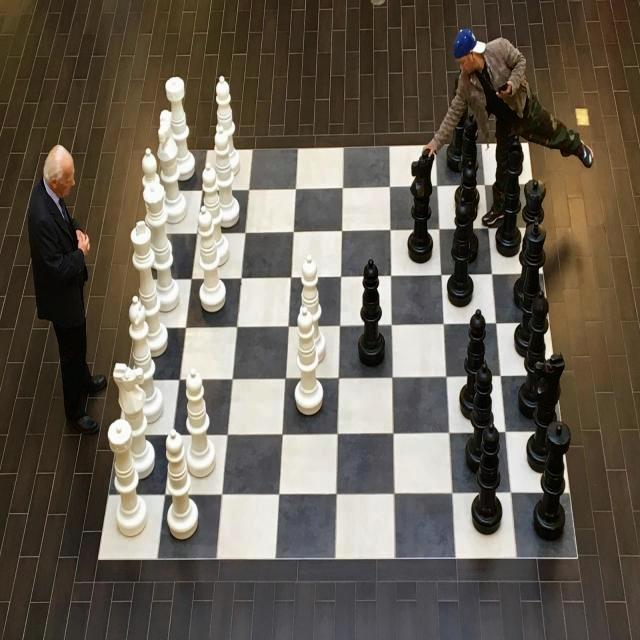chess-table-corners: (79, 530, 118, 580), (562, 534, 595, 580), (525, 140, 529, 145)
